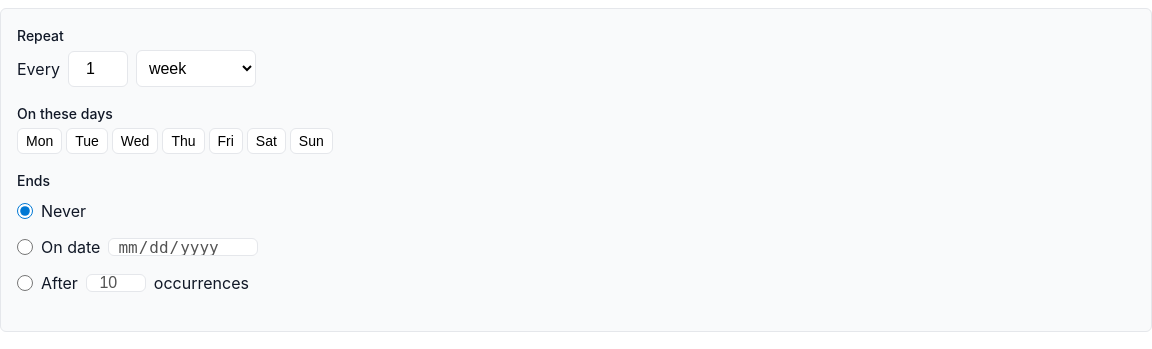
Test: RecurrenceSelector › end options › should enable count input when end type is after
The image size is (1152, 349).
Click the radio button labelled "After occurrences": (25, 283) [17,275,33,291]
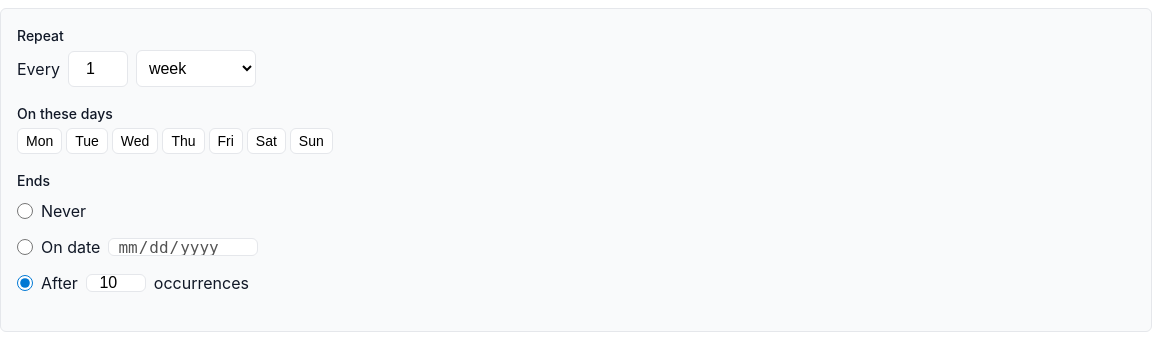
Check: the number field with class "count-input" is enabled, box [86,274,146,292]
